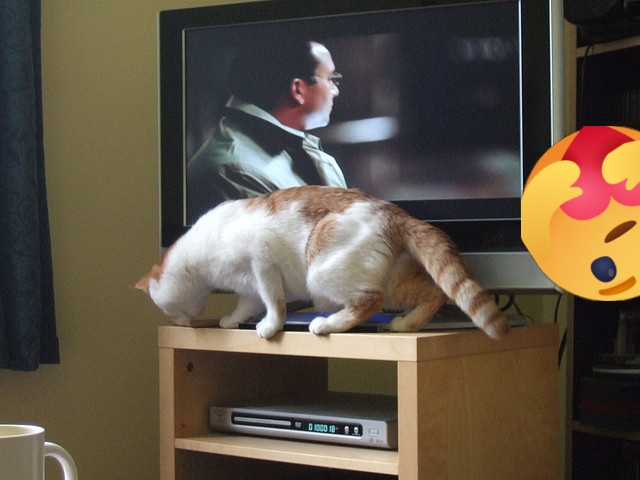care: (521, 126, 640, 301)
